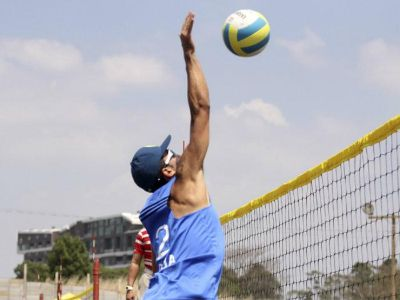voleibol: (222, 9, 271, 57)
